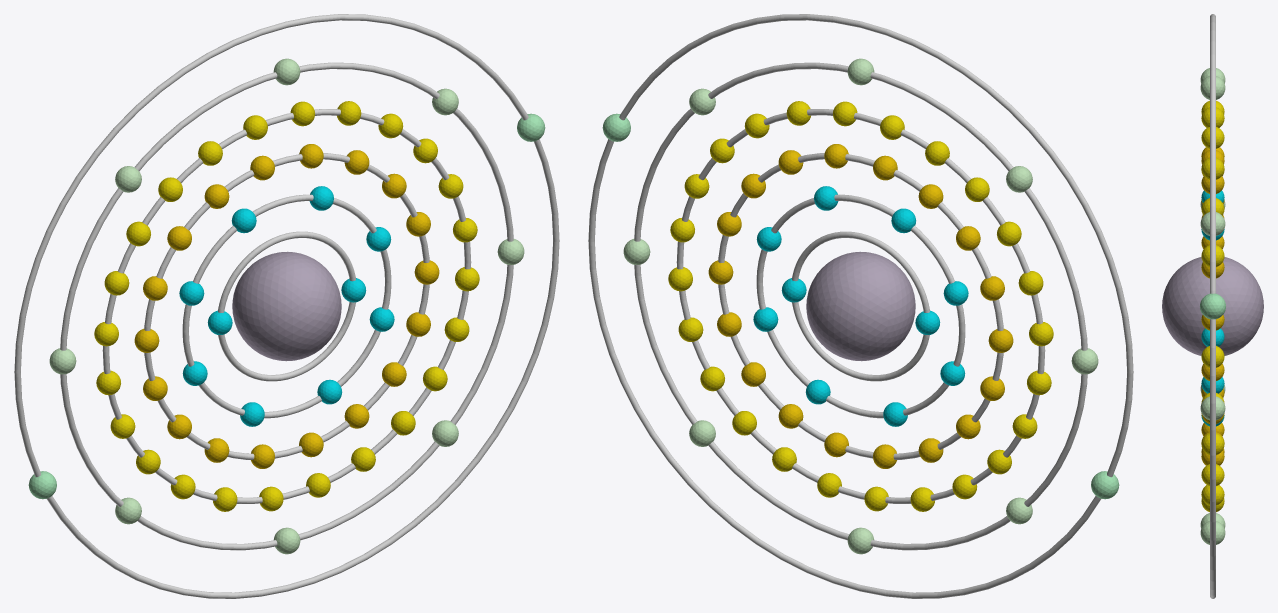
3 views of the same model, side by side, from view 1: azimuth 30°, elevation 25°; view 2: azimuth 150°, elevation 25°; view 3: azimuth 270°, elevation 25° (orthographic). The views are drawn at different scales.
Visible parts, largest first — view 1: world; view 2: world; view 3: world.
Part boxes in pixels (left/top/right/bottom): world: left=14, top=14, right=559, bottom=598; world: left=588, top=14, right=1133, bottom=598; world: left=1162, top=14, right=1263, bottom=598.
Bounding box in the file's own units: 2.53 × 2.53 × 0.44.
